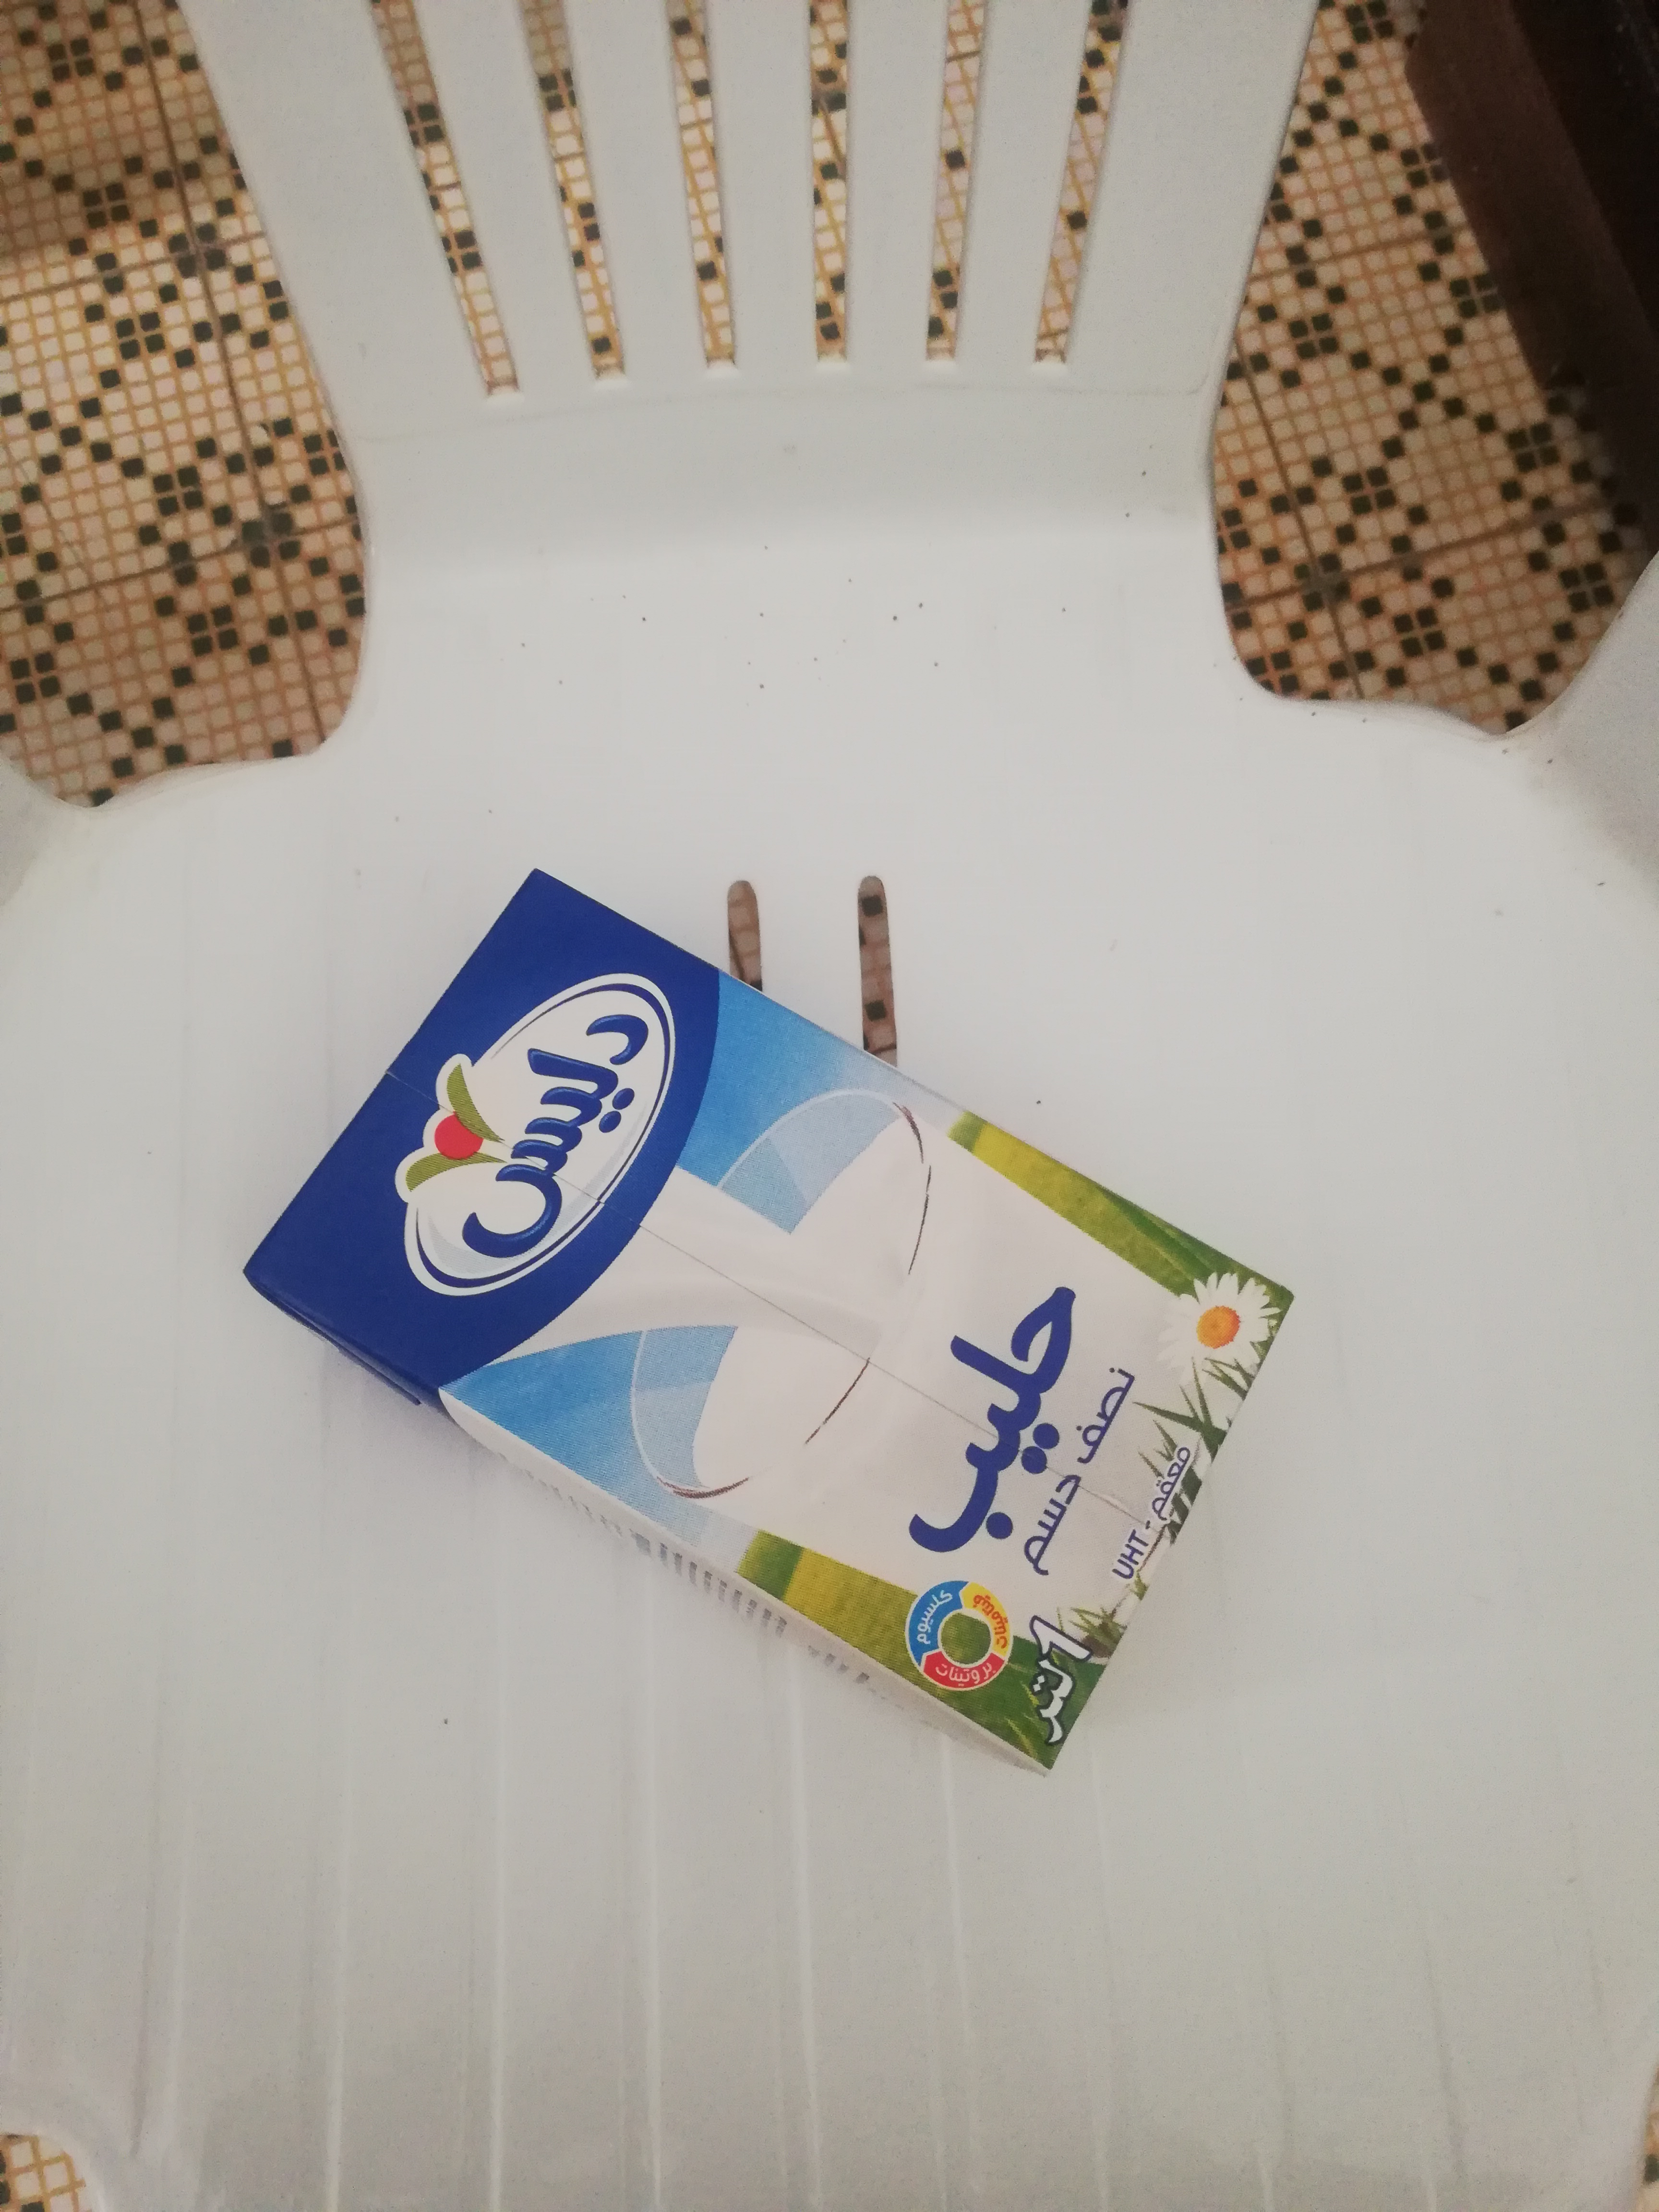Lait delice: (225, 866, 1312, 1775)
